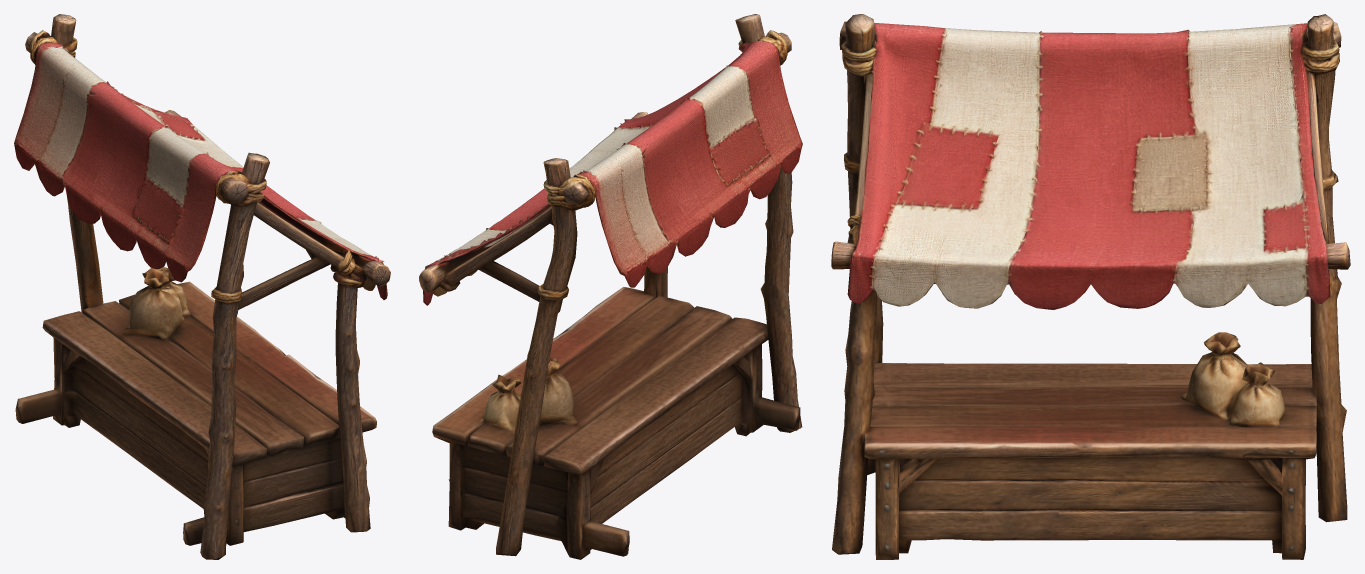
The model's file is Kit_W_Awning_HD_src.glb.
3 views of the same model, side by side, from view 1: azimuth 30°, elevation 25°; view 2: azimuth 150°, elevation 25°; view 3: azimuth 270°, elevation 25° (orthographic). The views are drawn at different scales.
Visible parts, largest first — view 1: tripo_node_05fe91fe-a862-477e-8f86-77886f7d9be3; view 2: tripo_node_05fe91fe-a862-477e-8f86-77886f7d9be3; view 3: tripo_node_05fe91fe-a862-477e-8f86-77886f7d9be3.
Part boxes in pixels (x1=…): tripo_node_05fe91fe-a862-477e-8f86-77886f7d9be3: x1=14, y1=14, x2=390, y2=559; tripo_node_05fe91fe-a862-477e-8f86-77886f7d9be3: x1=419, y1=14, x2=802, y2=559; tripo_node_05fe91fe-a862-477e-8f86-77886f7d9be3: x1=831, y1=14, x2=1350, y2=559.
Bounding box in the file's own units: 0.4925 × 0.9788 × 0.9678.
1 material, 1 textured.
